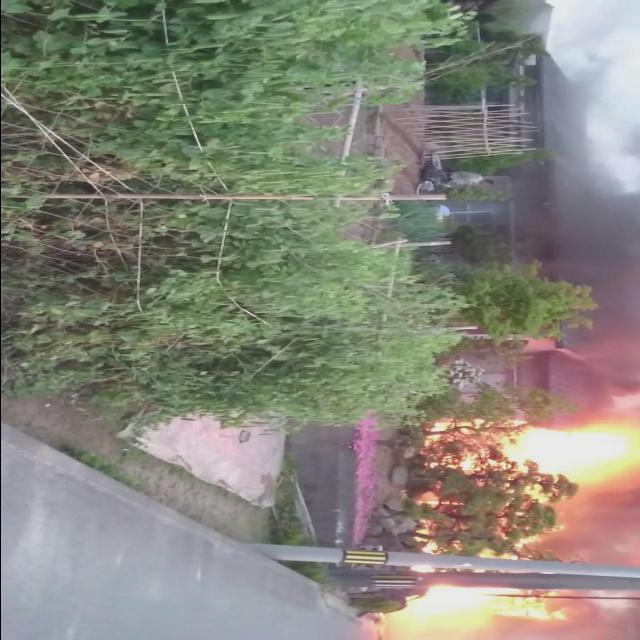Fire: (422, 414, 638, 500), (378, 588, 566, 638)
